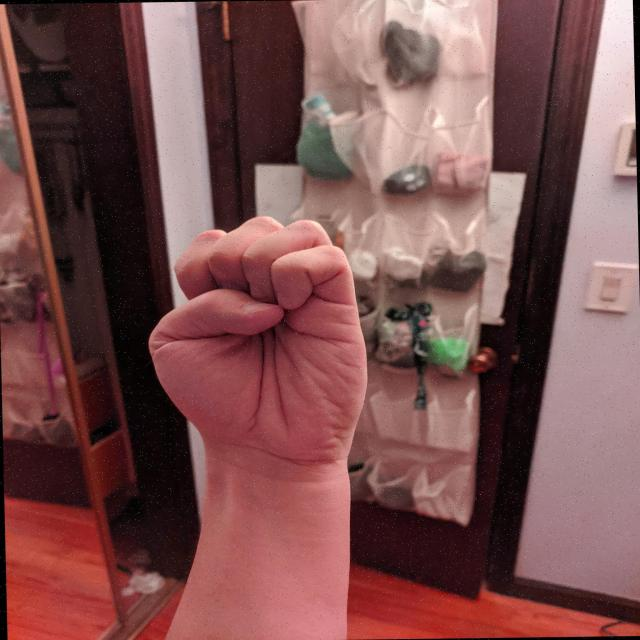E: (138, 210, 376, 473)
